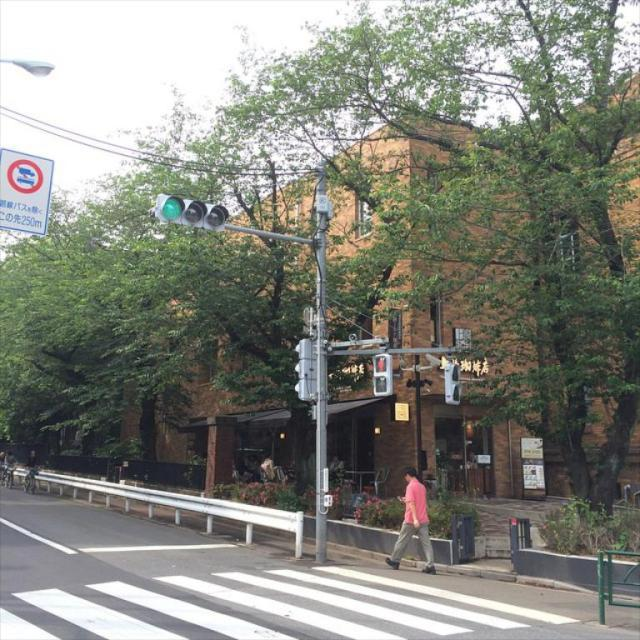off traffic light: (443, 362, 463, 405)
traffic light: (155, 194, 229, 230), (374, 354, 393, 395)
